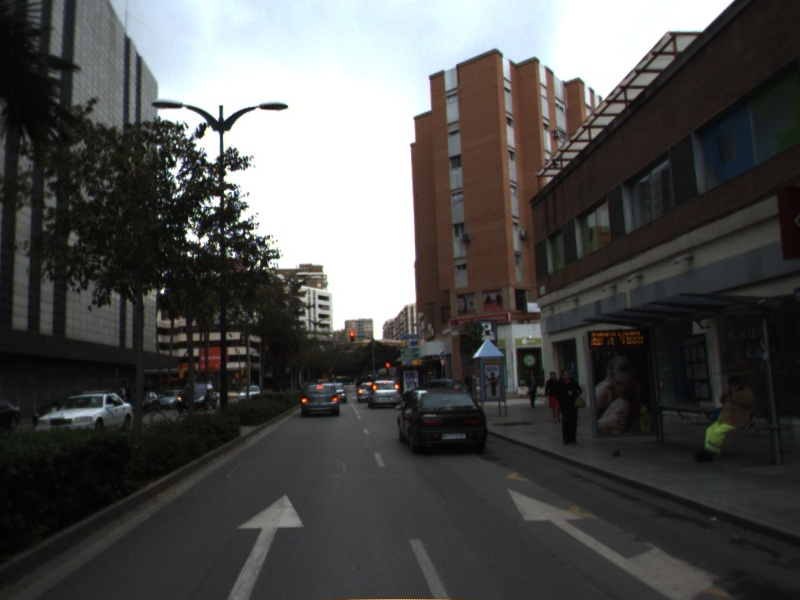STRAIGHT: (225, 492, 306, 600)
STRAIGHT_RIGHT: (506, 487, 724, 600)
